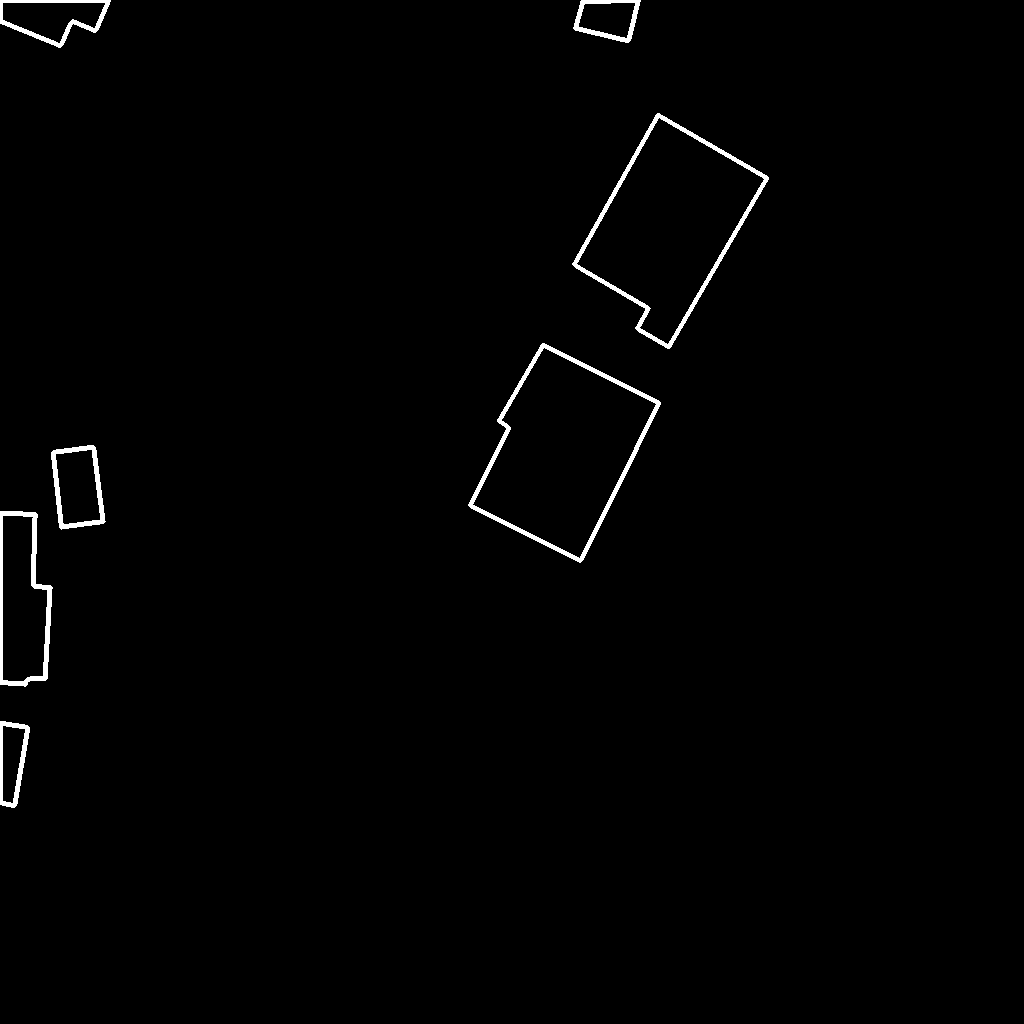building: (574, 115, 768, 348), (470, 345, 660, 562), (0, 513, 51, 685), (0, 0, 110, 47), (53, 447, 104, 528), (575, 0, 640, 42), (0, 723, 29, 807), (0, 105, 2, 113)
